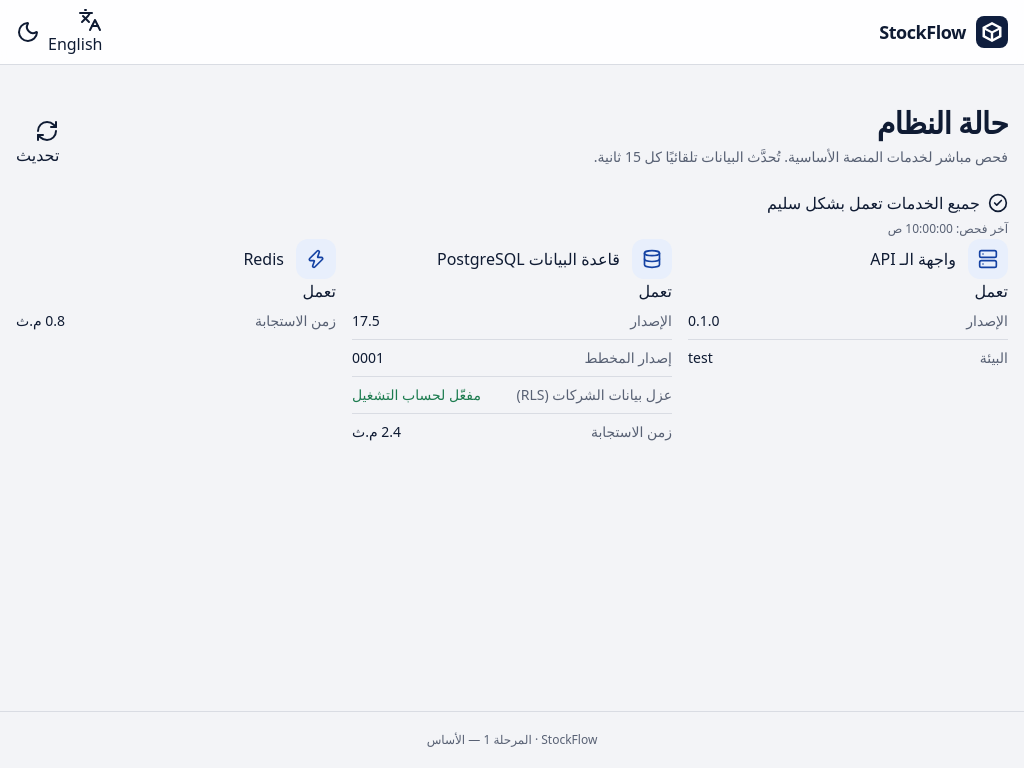
Test: SystemStatusPage › is Arabic/RTL by default and switches the whole document to English/LTR
expect the heading "حالة النظام" is shown: met, box left=877, top=102, right=1008, bottom=143
Click the button with aria-label "التبديل إلى الإنجليزية". click: (75, 32)
box: left=48, top=8, right=102, bottom=56
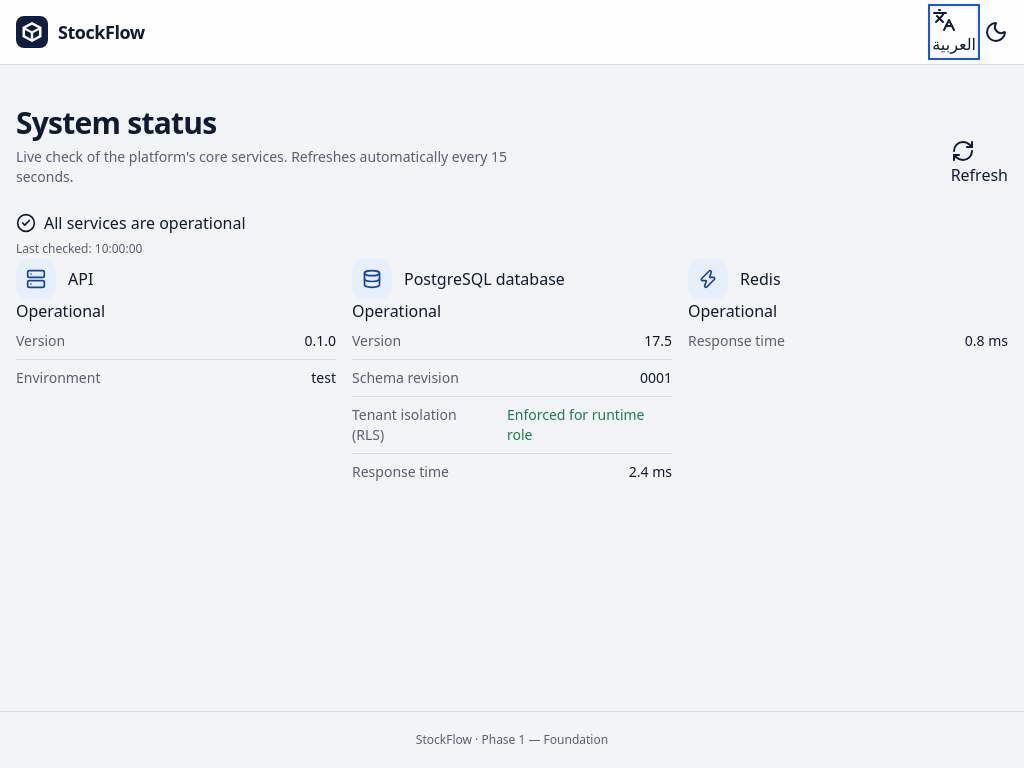
expect the heading "System status" is shown: met, box left=16, top=102, right=216, bottom=143
